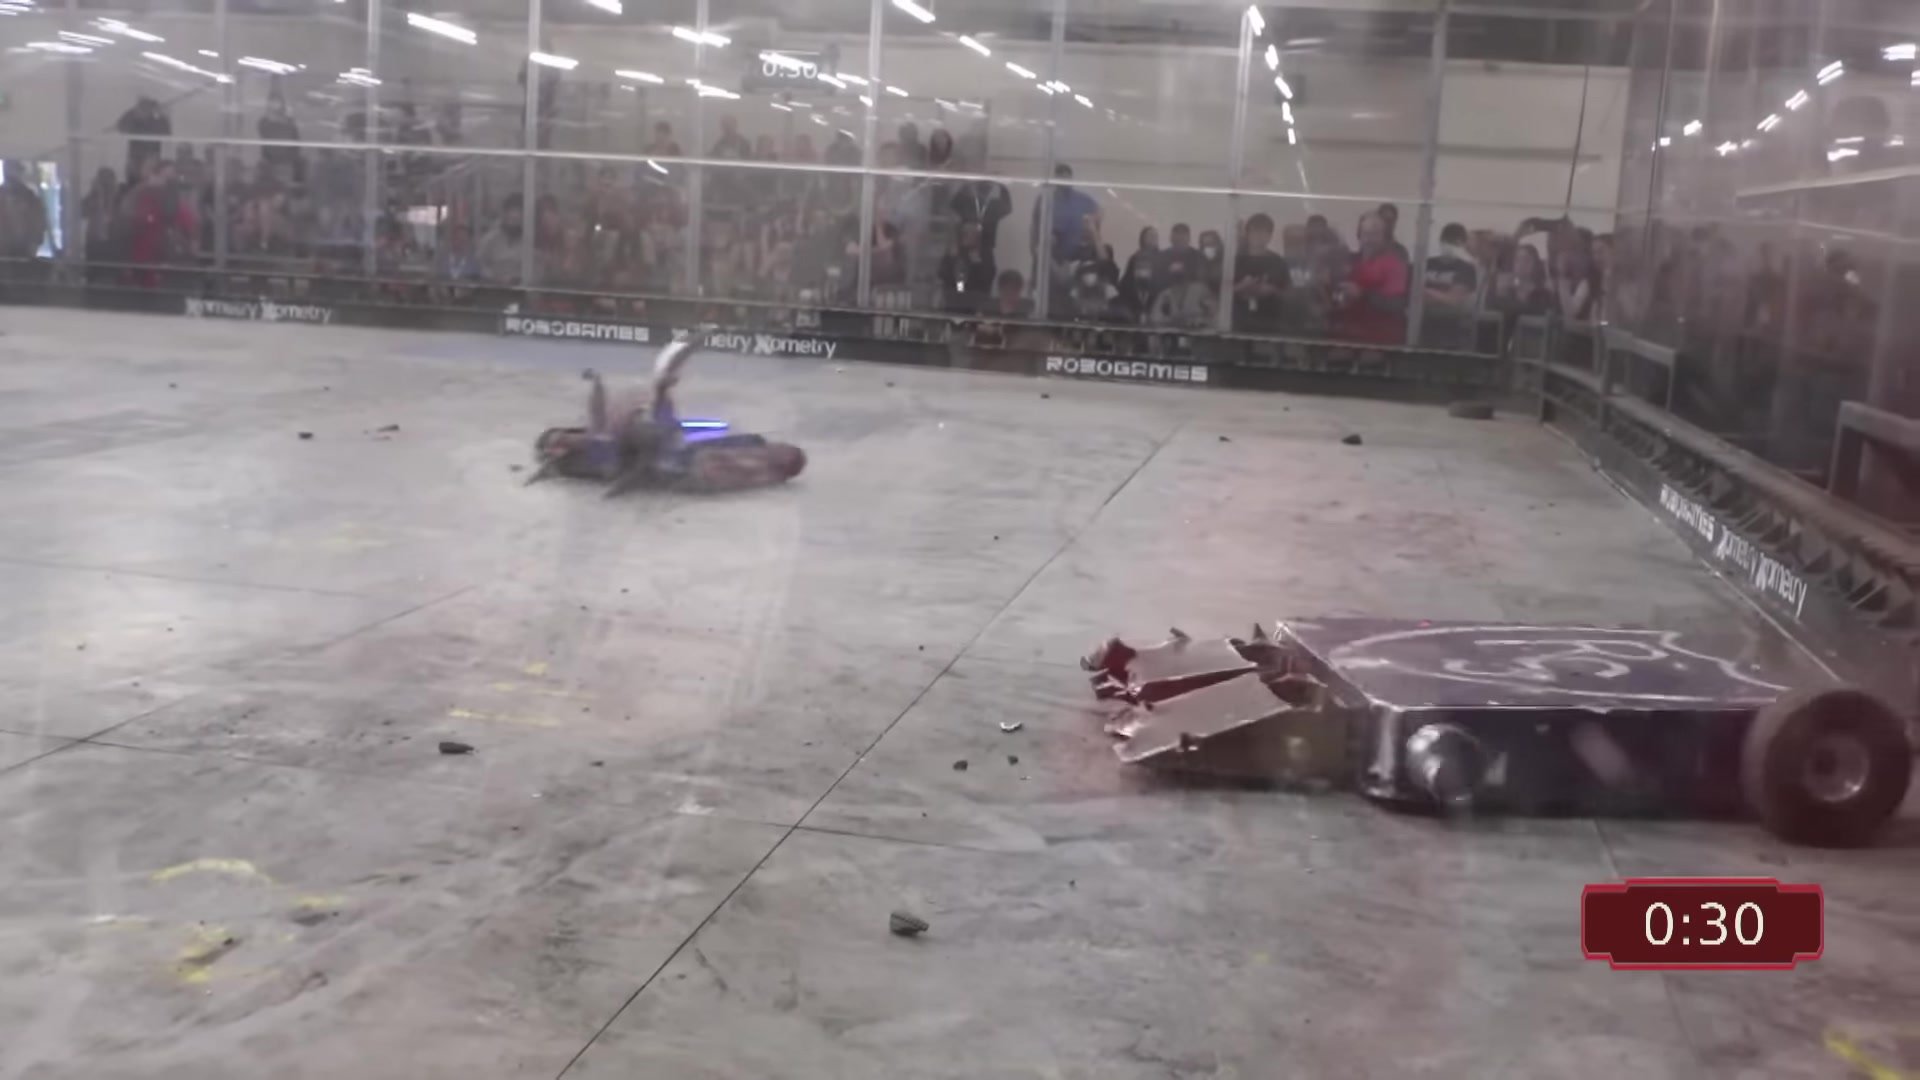combatbot: (1083, 613, 1907, 848), (522, 331, 806, 510)
debris: (1341, 431, 1364, 444)
wheel: (1445, 397, 1493, 422)
